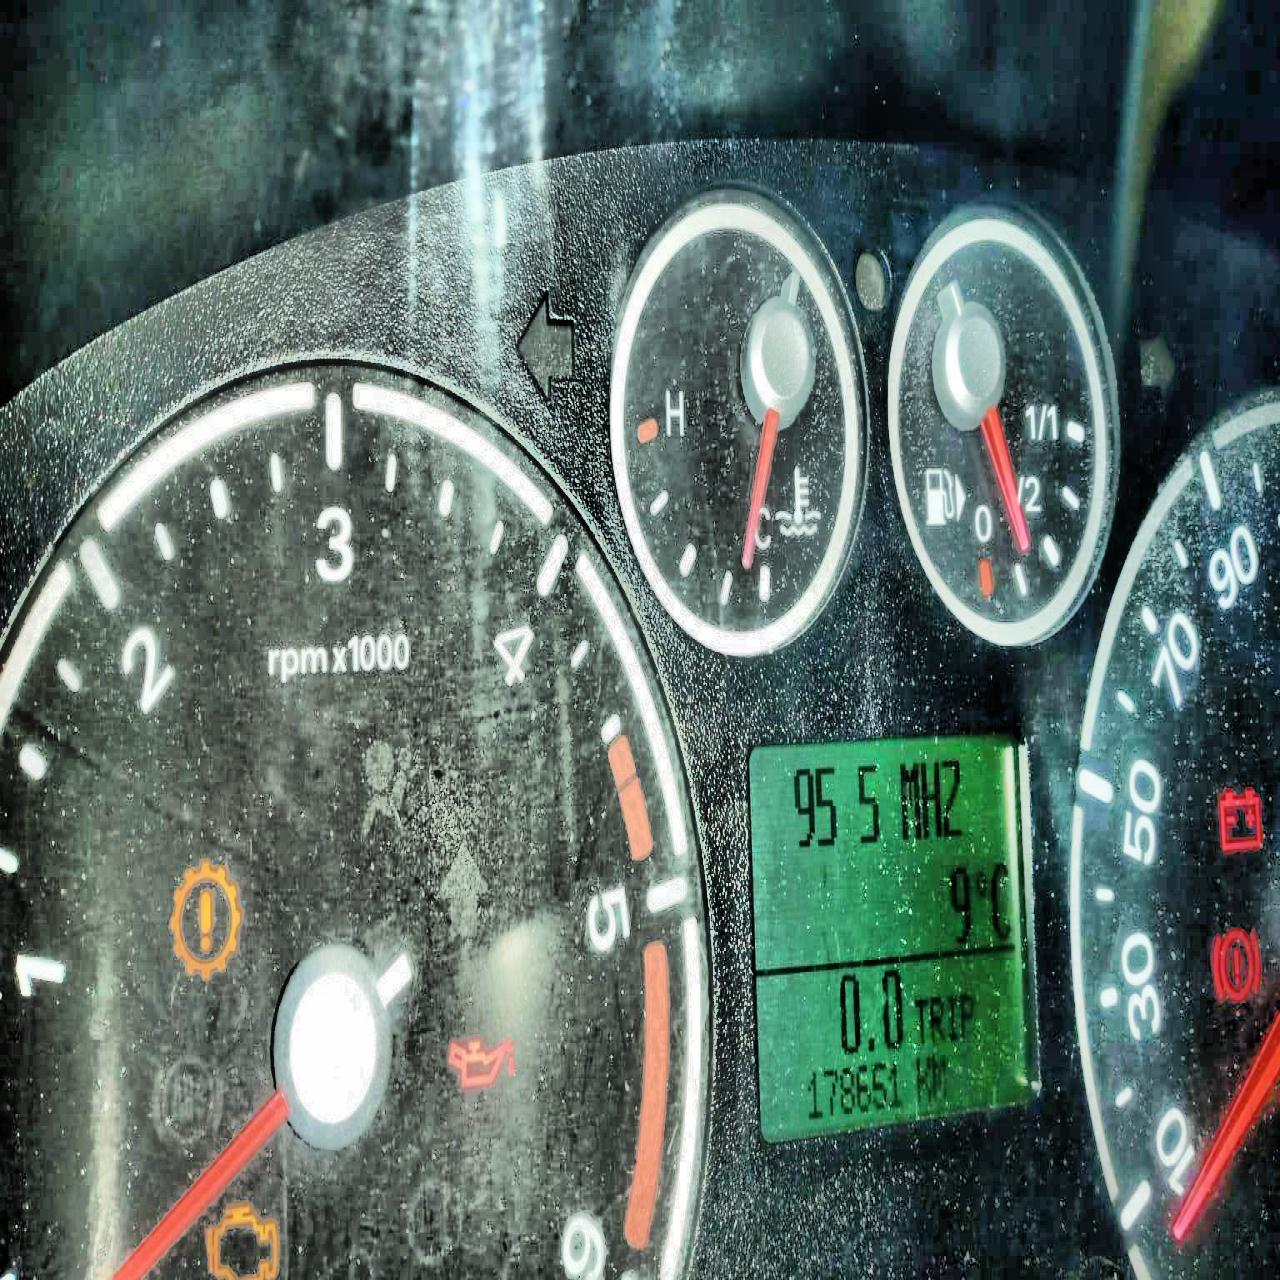-: (866, 1034, 876, 1051)
0: (880, 966, 904, 1047), (839, 972, 860, 1054)
1: (806, 1070, 823, 1117), (887, 1064, 901, 1108)
5: (856, 760, 879, 843), (815, 764, 837, 847), (871, 1058, 886, 1108)
6: (856, 1064, 870, 1111)
7: (823, 1067, 837, 1117)
8: (838, 1067, 855, 1115)
9: (791, 765, 815, 846), (949, 864, 971, 942)
X: (899, 760, 921, 840), (940, 758, 961, 837), (920, 760, 941, 837), (990, 860, 1010, 939), (930, 994, 946, 1044), (915, 1054, 931, 1105), (932, 1056, 947, 1099), (959, 990, 973, 1037), (914, 998, 927, 1043), (946, 994, 955, 1040)
odometer: (745, 729, 1041, 1145)
